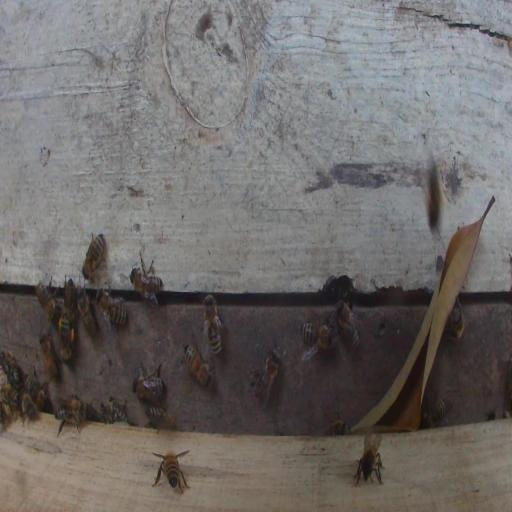nonpollenbee: (129, 252, 163, 308), (251, 347, 281, 407), (152, 449, 190, 494), (183, 342, 214, 389), (95, 285, 128, 328), (202, 293, 224, 356), (427, 150, 443, 232), (335, 298, 360, 350), (133, 363, 165, 403), (35, 277, 62, 322), (300, 320, 334, 354), (82, 231, 105, 280), (76, 286, 97, 336), (39, 332, 60, 381), (421, 397, 452, 427), (1, 348, 23, 388), (145, 404, 177, 430), (26, 374, 48, 411), (56, 400, 86, 427), (447, 297, 465, 340), (100, 399, 127, 423), (1, 387, 21, 414), (64, 275, 77, 316), (21, 392, 37, 425), (362, 442, 377, 475), (325, 417, 350, 435)
pollenbee: (58, 314, 75, 360)
